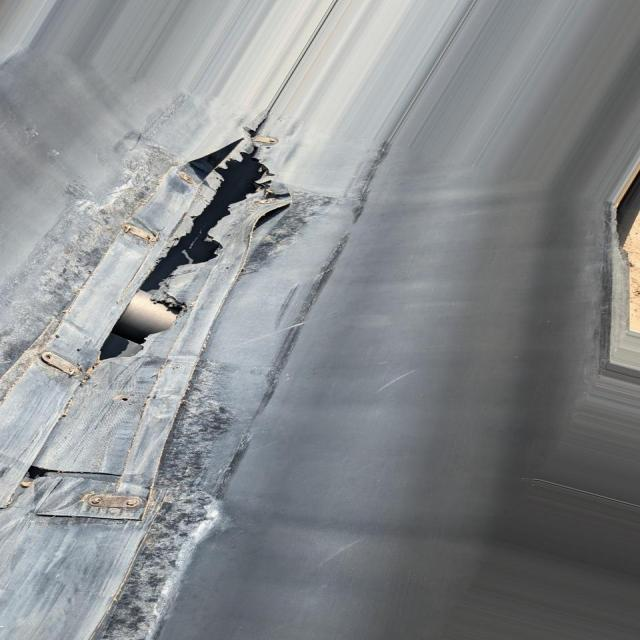Hole: (102, 163, 267, 358)
patch work: (0, 147, 289, 640)
